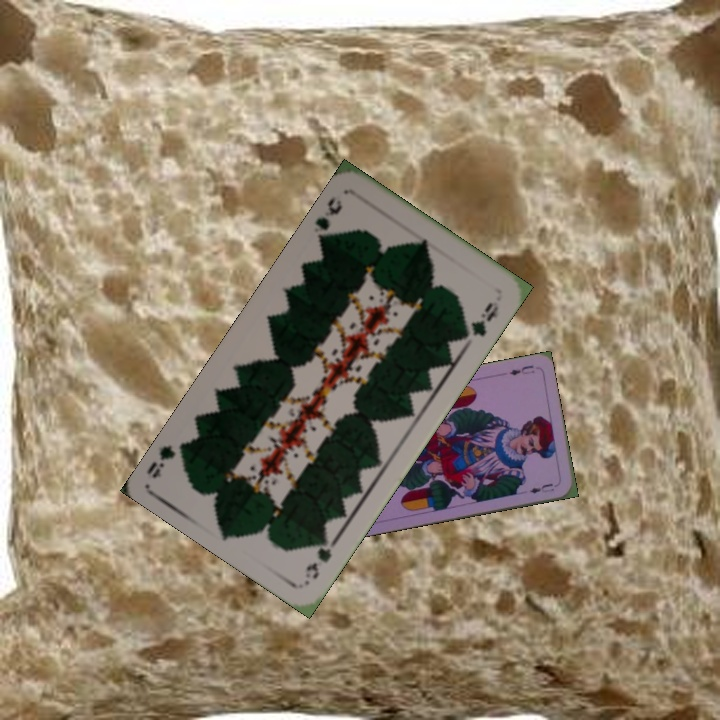EU: (505, 361, 537, 378)
G9: (311, 192, 345, 246), (301, 533, 335, 582)
